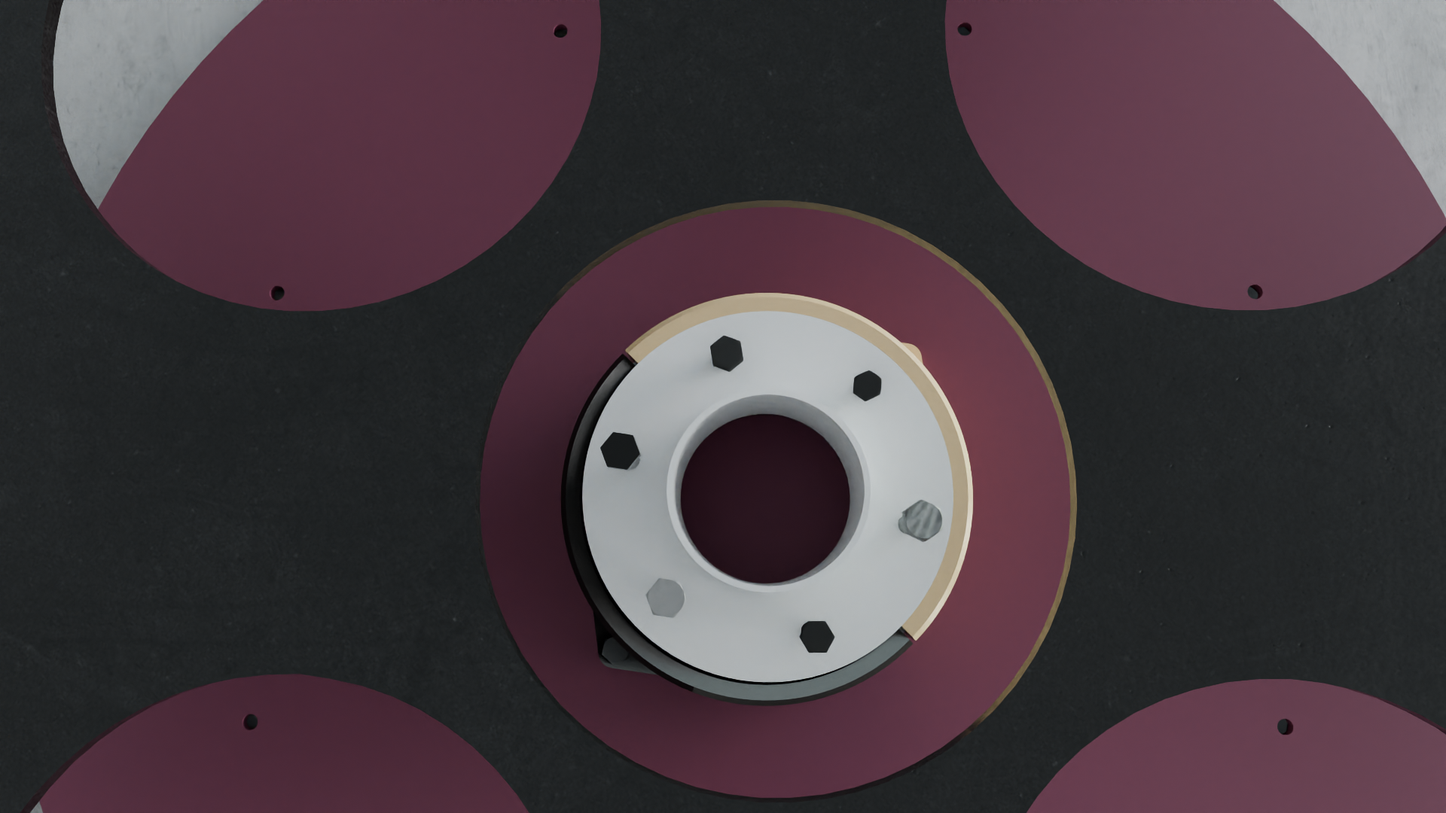bolt: (645, 578, 688, 618), (905, 500, 943, 541), (600, 432, 640, 470), (710, 335, 743, 370), (800, 622, 835, 653), (854, 370, 882, 400)
